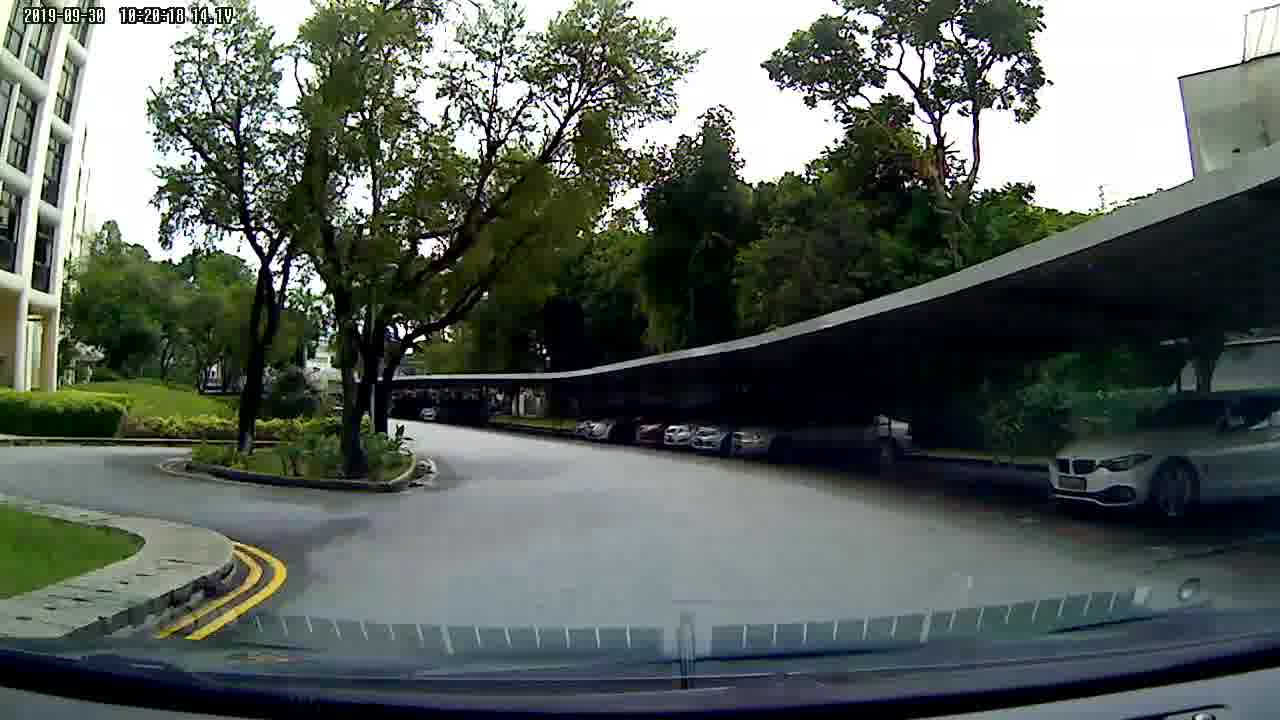car: (1026, 388, 1280, 549), (568, 404, 918, 461)
